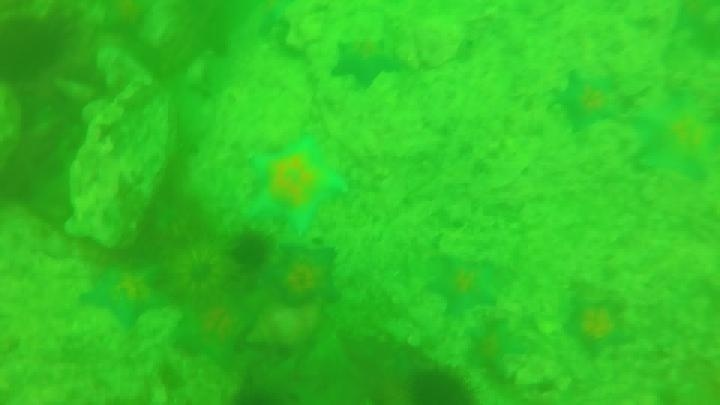echinus: (1, 12, 69, 85), (163, 244, 233, 306), (144, 191, 208, 249), (406, 366, 478, 404), (227, 229, 273, 273)
starfish: (242, 134, 349, 236), (625, 93, 719, 188), (77, 255, 169, 325), (173, 292, 260, 365), (269, 242, 345, 309), (422, 251, 499, 316), (561, 294, 634, 361), (549, 68, 622, 133), (330, 35, 408, 88), (466, 315, 530, 376), (96, 1, 155, 39)
